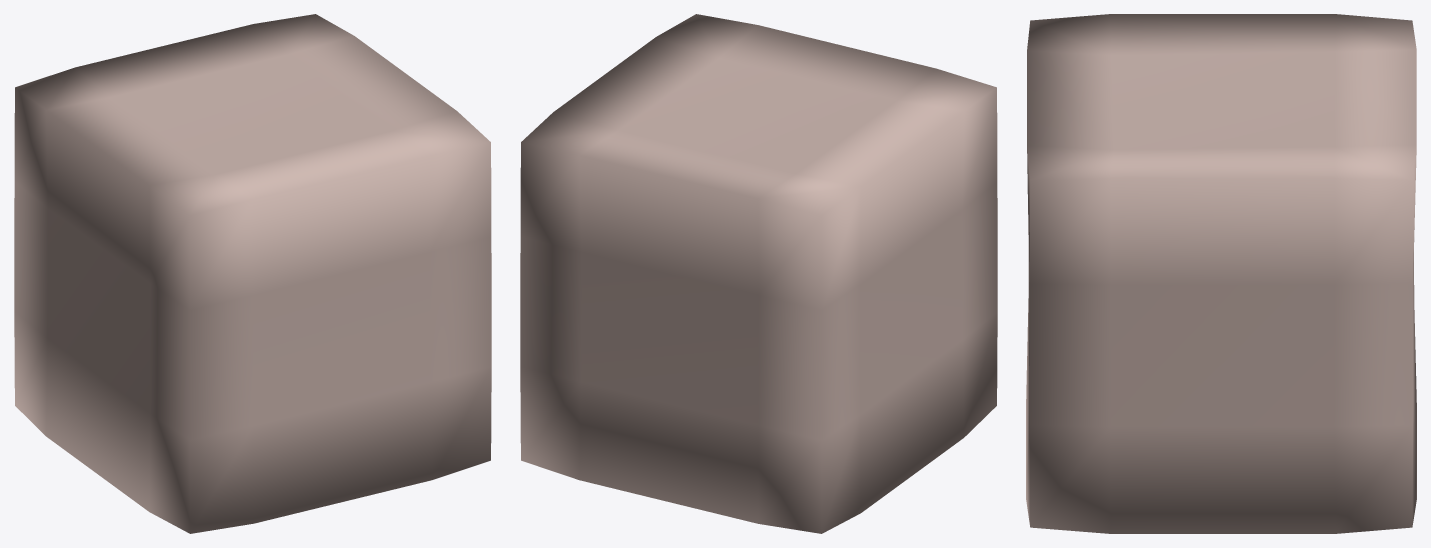
File: Platform_DimensionalStable.fbx
The picture shows the model from 3 angles, left to right: view 1: azimuth 30°, elevation 25°; view 2: azimuth 150°, elevation 25°; view 3: azimuth 270°, elevation 25°; orthographic projection. The views are drawn at different scales.
Parts seen in each view (by area): view 1: RetopoGroup1; view 2: RetopoGroup1; view 3: RetopoGroup1.
Part boxes in pixels (bbox=[...]): RetopoGroup1: bbox=[14, 14, 491, 533]; RetopoGroup1: bbox=[520, 14, 997, 533]; RetopoGroup1: bbox=[1026, 14, 1416, 533].
Size of the model in its own units: 98.42 by 99.48 by 99.
